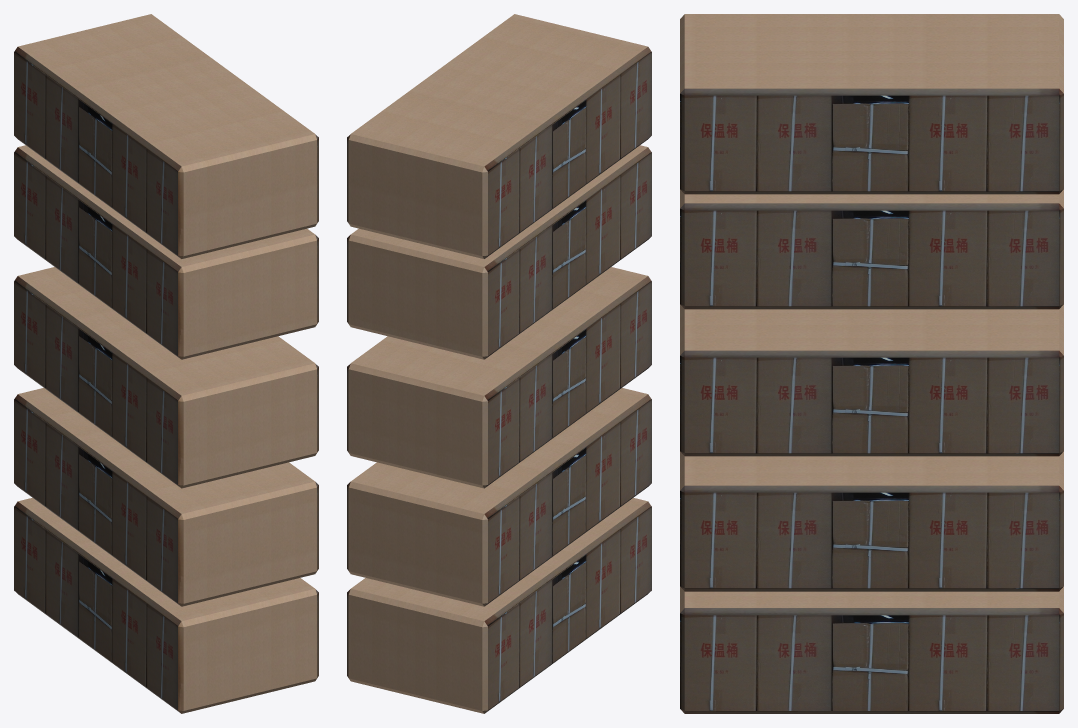
Rendered from baowenhu.FBX.
3 renders of one model, left to right at view 1: azimuth 30°, elevation 25°; view 2: azimuth 150°, elevation 25°; view 3: azimuth 270°, elevation 25°, orthographic. The views are drawn at different scales.
Visible parts, largest first — view 1: Box3772; view 2: Box3772; view 3: Box3772.
Part boxes in pixels (x1,y1,x2,y2): Box3772: (14, 14, 318, 713); Box3772: (347, 14, 651, 713); Box3772: (680, 14, 1063, 713).
Bounding box in the file's own units: 0.7354 × 1.52 × 2.73.
